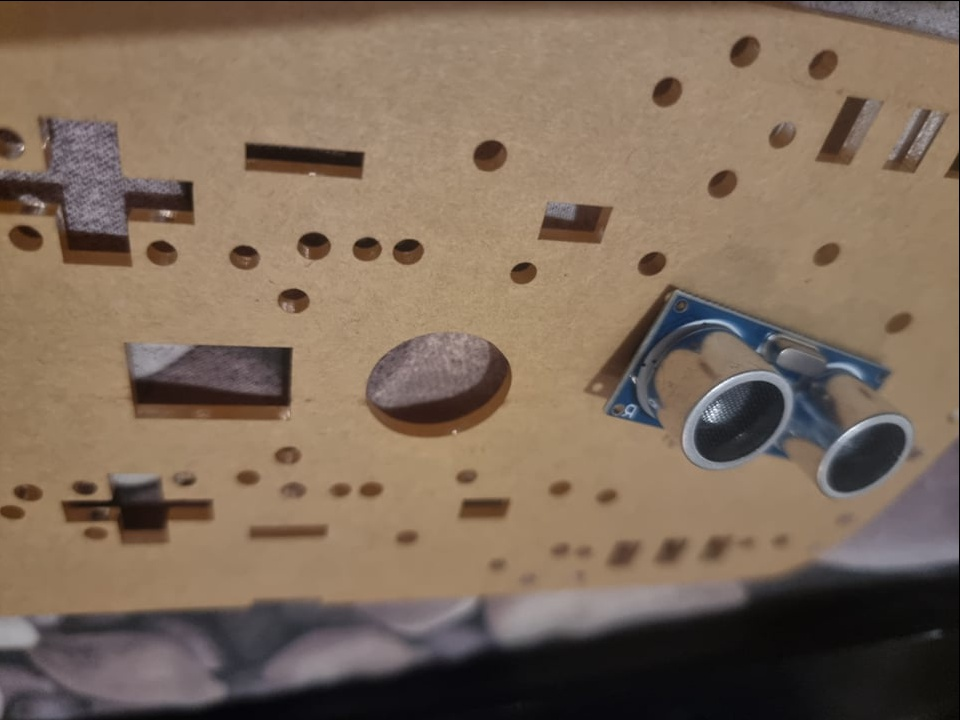SENSOR: (603, 295, 915, 498)
